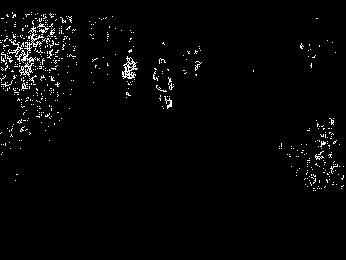person: (152, 56, 175, 111)
